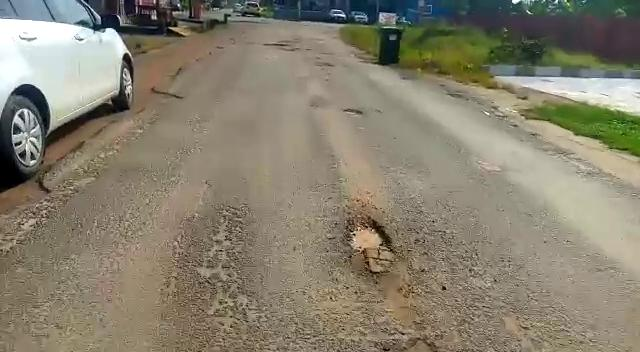pothole: (342, 215, 401, 267)
